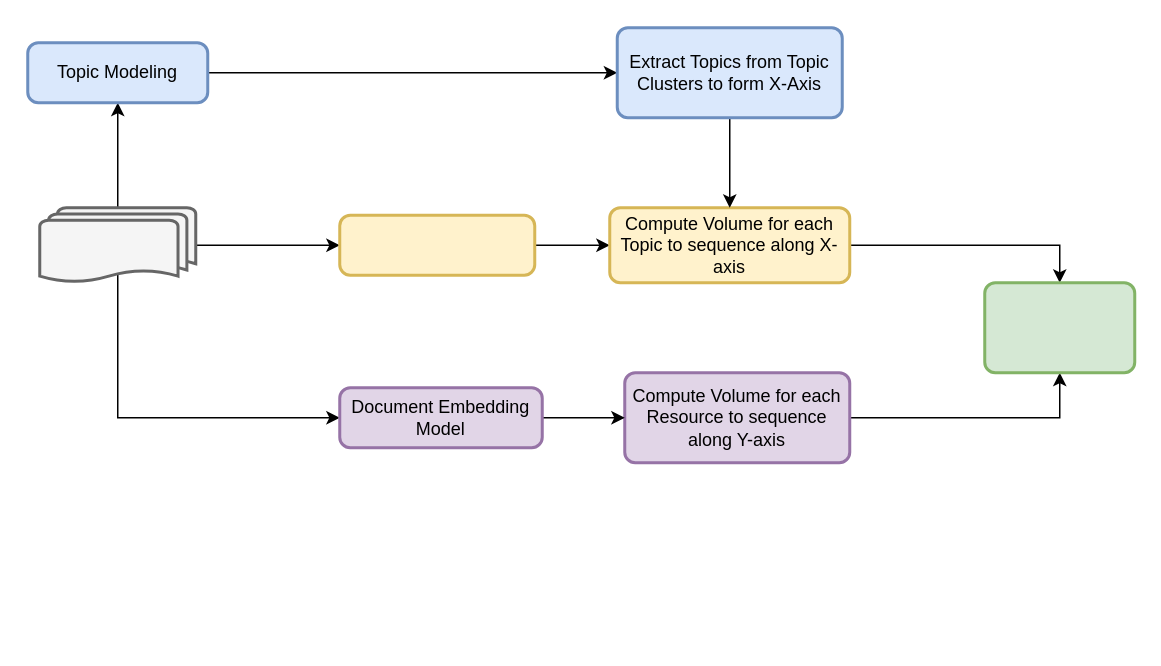
The diagram is 1161 pixels wide and 666 high, and some of its shapes have lost their labels. Each missing label, with the centre of its shape:
Generate Competency map: [1059,327]
Learning Resources: [117,245]
Word Embedding Model: [437,244]
